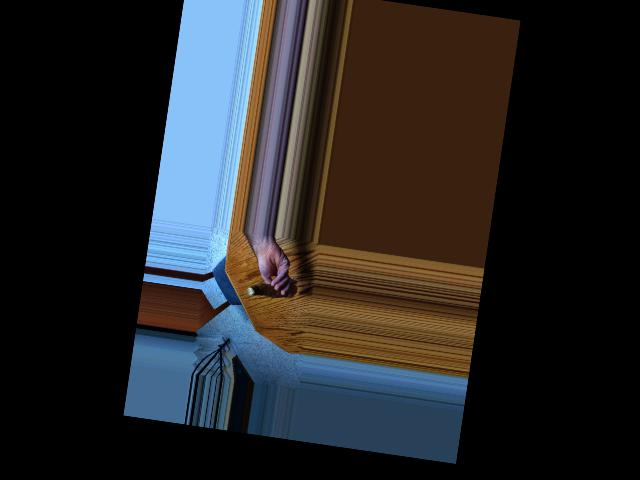sweet_potato: (242, 278, 297, 301)
